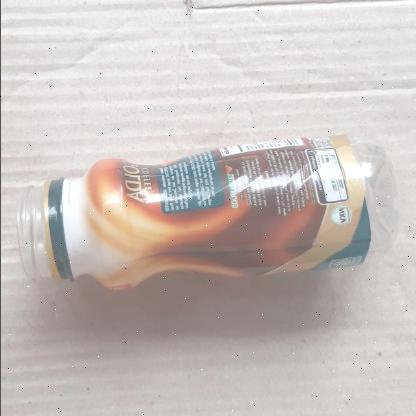Plastic Bottle: (17, 132, 397, 294)
